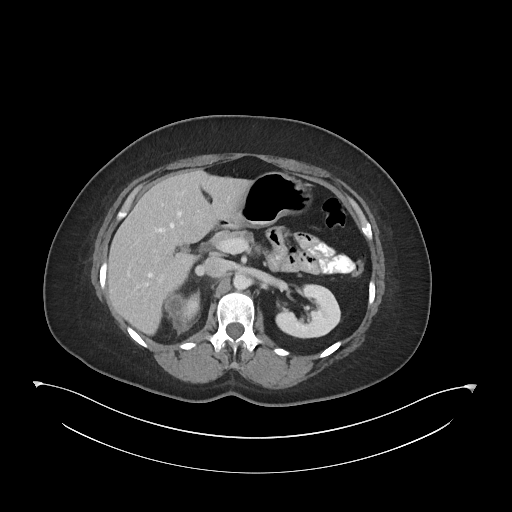Lesion: (166, 294, 184, 317)
